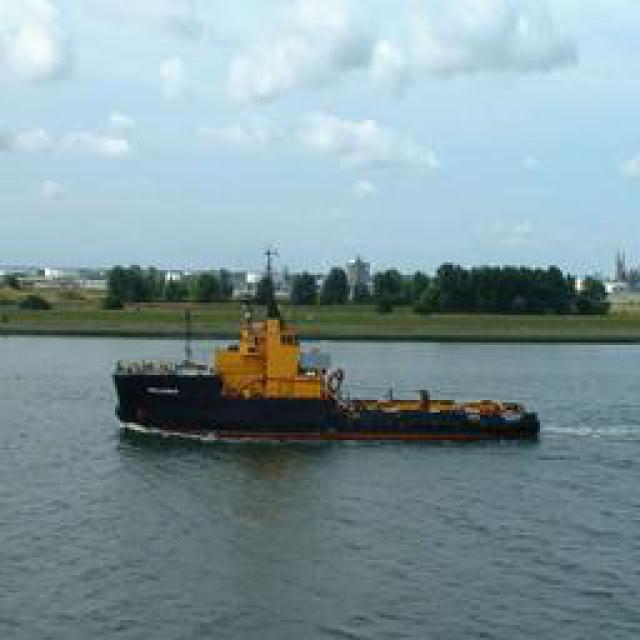Ship: (118, 335, 543, 445)
